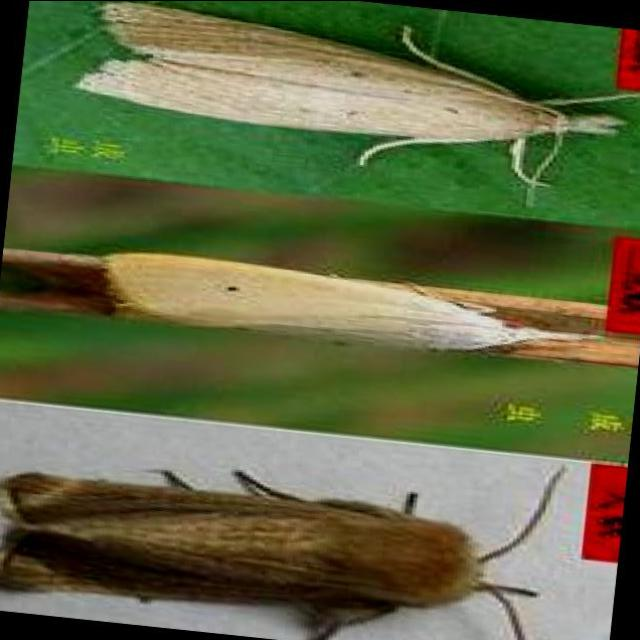stem borer: (79, 2, 623, 186), (0, 469, 562, 640), (0, 252, 601, 349)
